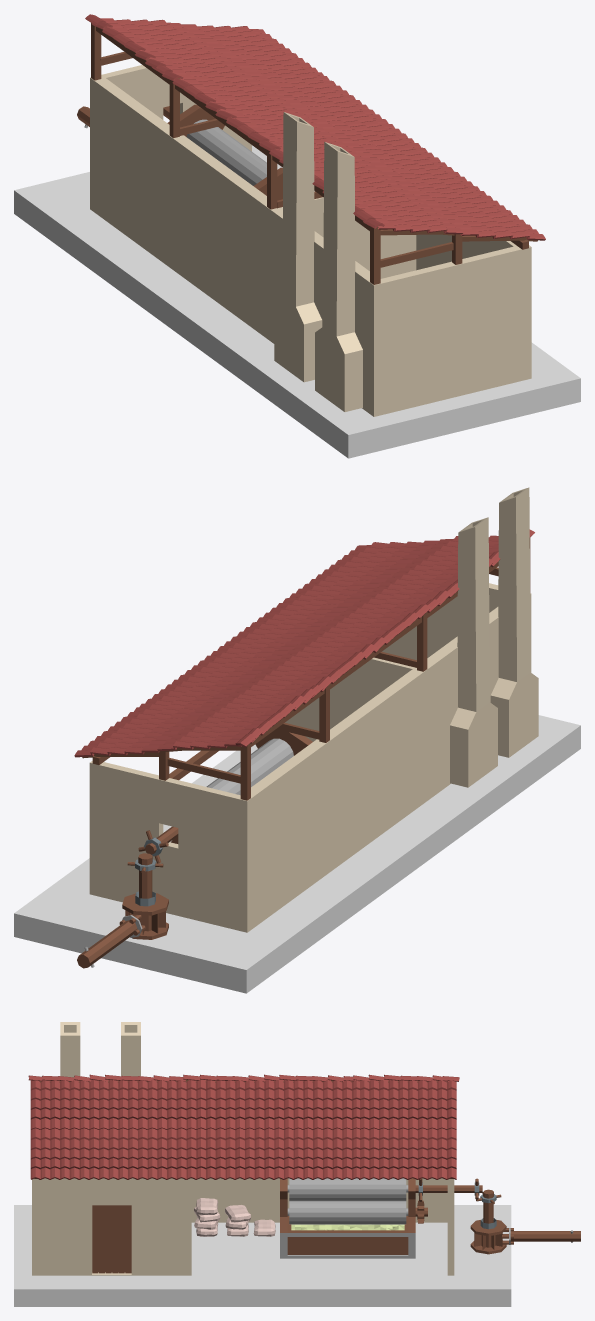
File: casa9.fbx
3 renders of one model, top to bottom at view 1: azimuth 30°, elevation 25°; view 2: azimuth 150°, elevation 25°; view 3: azimuth 270°, elevation 25°, orthographic. The views are drawn at different scales.
Parts seen in each view (by area): view 1: Cube.002, Cube.001, Cube.014, Cylinder.001, Cube.003; view 2: Cube.002, Cube.001, Cube.014, Circle.001, Cylinder.001, Cylinder, Cube.003, Circle.002; view 3: Cube.001, Cube.014, Cube.002, Cube.003, Cylinder.002, Cylinder.001, Plane.001, Cube.004, Circle.001, Cylinder, Plane, Circle.002.
Part boxes in pixels (x1,y1,x2,y2): Cube.002: (90,65,531,416); Cube.001: (85,14,545,284); Cube.014: (14,145,580,458); Cylinder.001: (186,119,266,185); Cube.003: (167,104,282,200); Cube.002: (89,487,538,932); Cube.001: (74,529,534,800); Cube.014: (14,715,580,993); Circle.001: (122,853,168,939); Cylinder.001: (206,738,293,795); Cylinder: (77,915,145,968); Cube.003: (171,729,312,843); Circle.002: (138,826,178,863); Cube.001: (28,1074,459,1179); Cube.014: (14,1205,511,1306); Cube.002: (32,1022,454,1275); Cube.003: (280,1178,415,1258); Cylinder.002: (287,1201,408,1224); Cylinder.001: (287,1178,408,1201); Plane.001: (92,1205,131,1273); Cube.004: (194,1198,275,1236); Circle.001: (470,1189,506,1254); Cylinder: (502,1228,580,1244); Plane: (291,1224,404,1230); Circle.002: (415,1178,482,1201).
Bounding box in the file's own units: 251 × 288 × 713.
